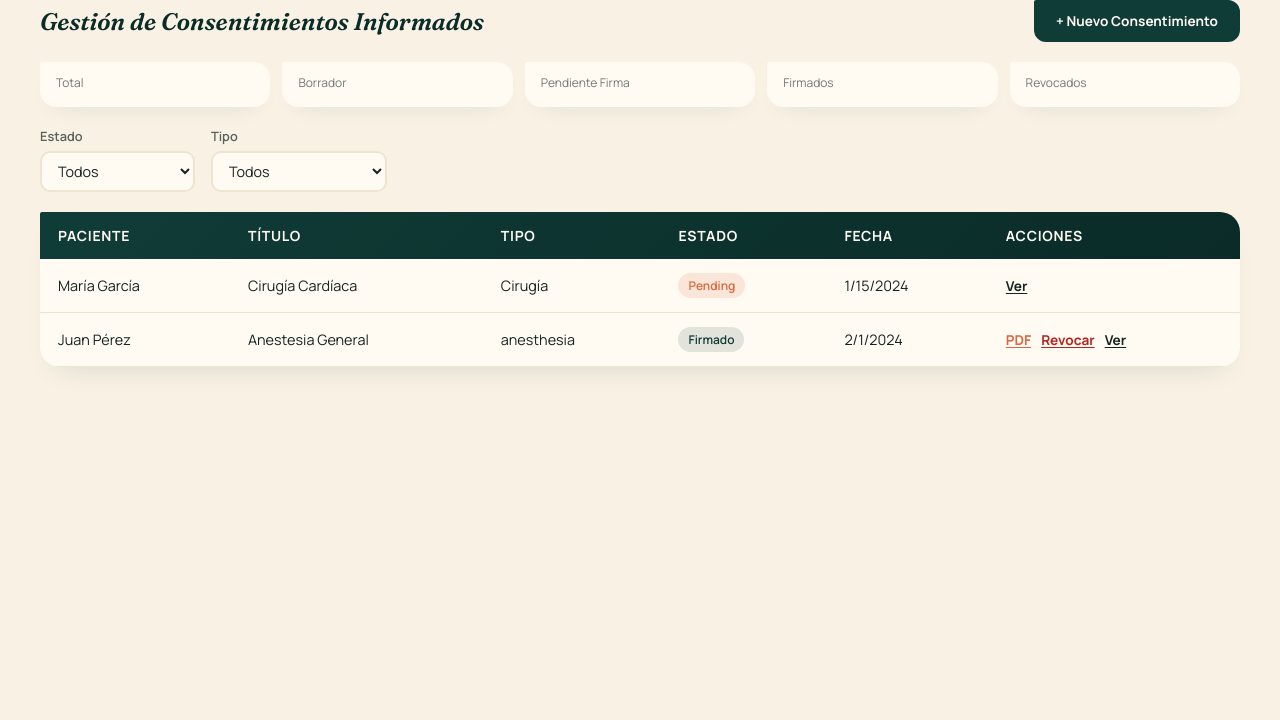
Scenario: ConsentManagement › Create modal › opens create modal when button clicked
Check: the text "Cirugía Cardíaca" is shown, box x1=230 y1=259 x2=483 y2=312
Step 1. Click the button "+ Nuevo Consentimiento" → point(1137, 21), box x1=1034 y1=0 x2=1240 y2=42
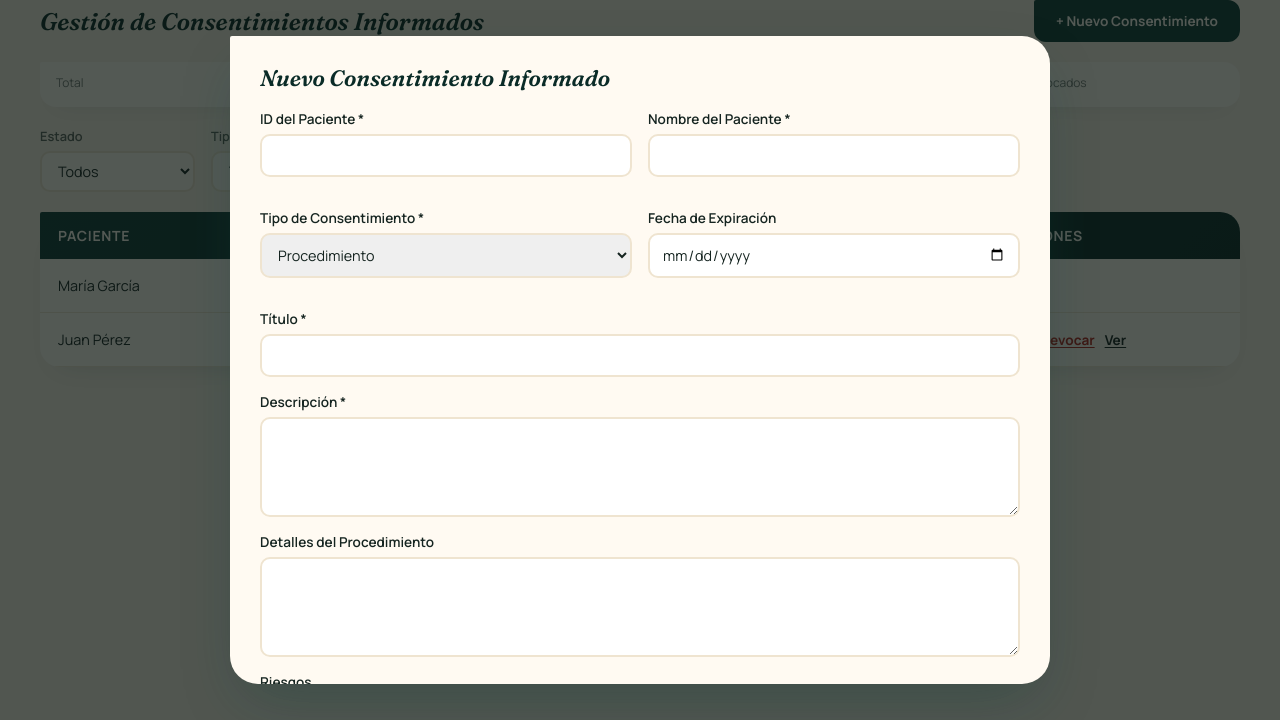
Check: the heading "Nuevo Consentimiento Informado" is shown, box x1=260 y1=64 x2=610 y2=92
